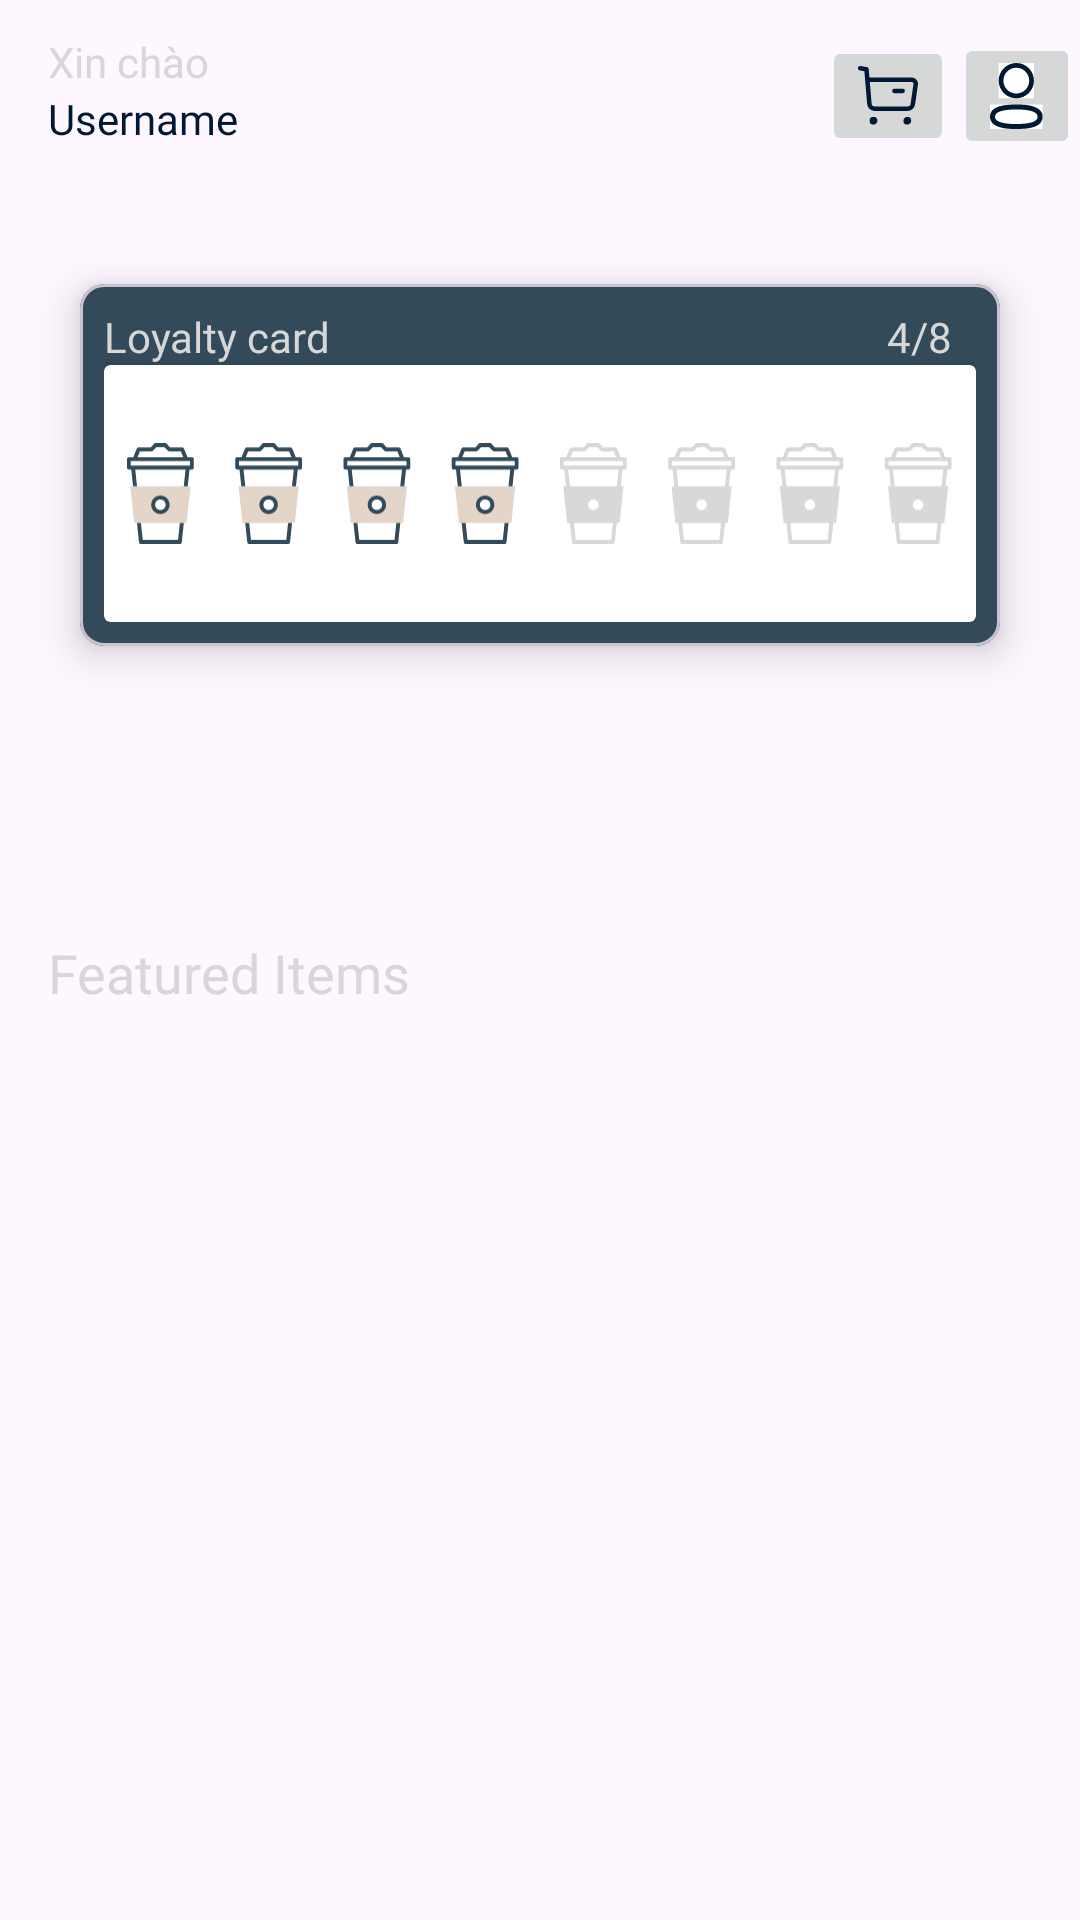

Icon bounding boxes for this 1080 x 1920 phone screenshot, format (x1, y1, x2, y2):
cart: (834, 54, 942, 138)
user: (966, 51, 1068, 141)
